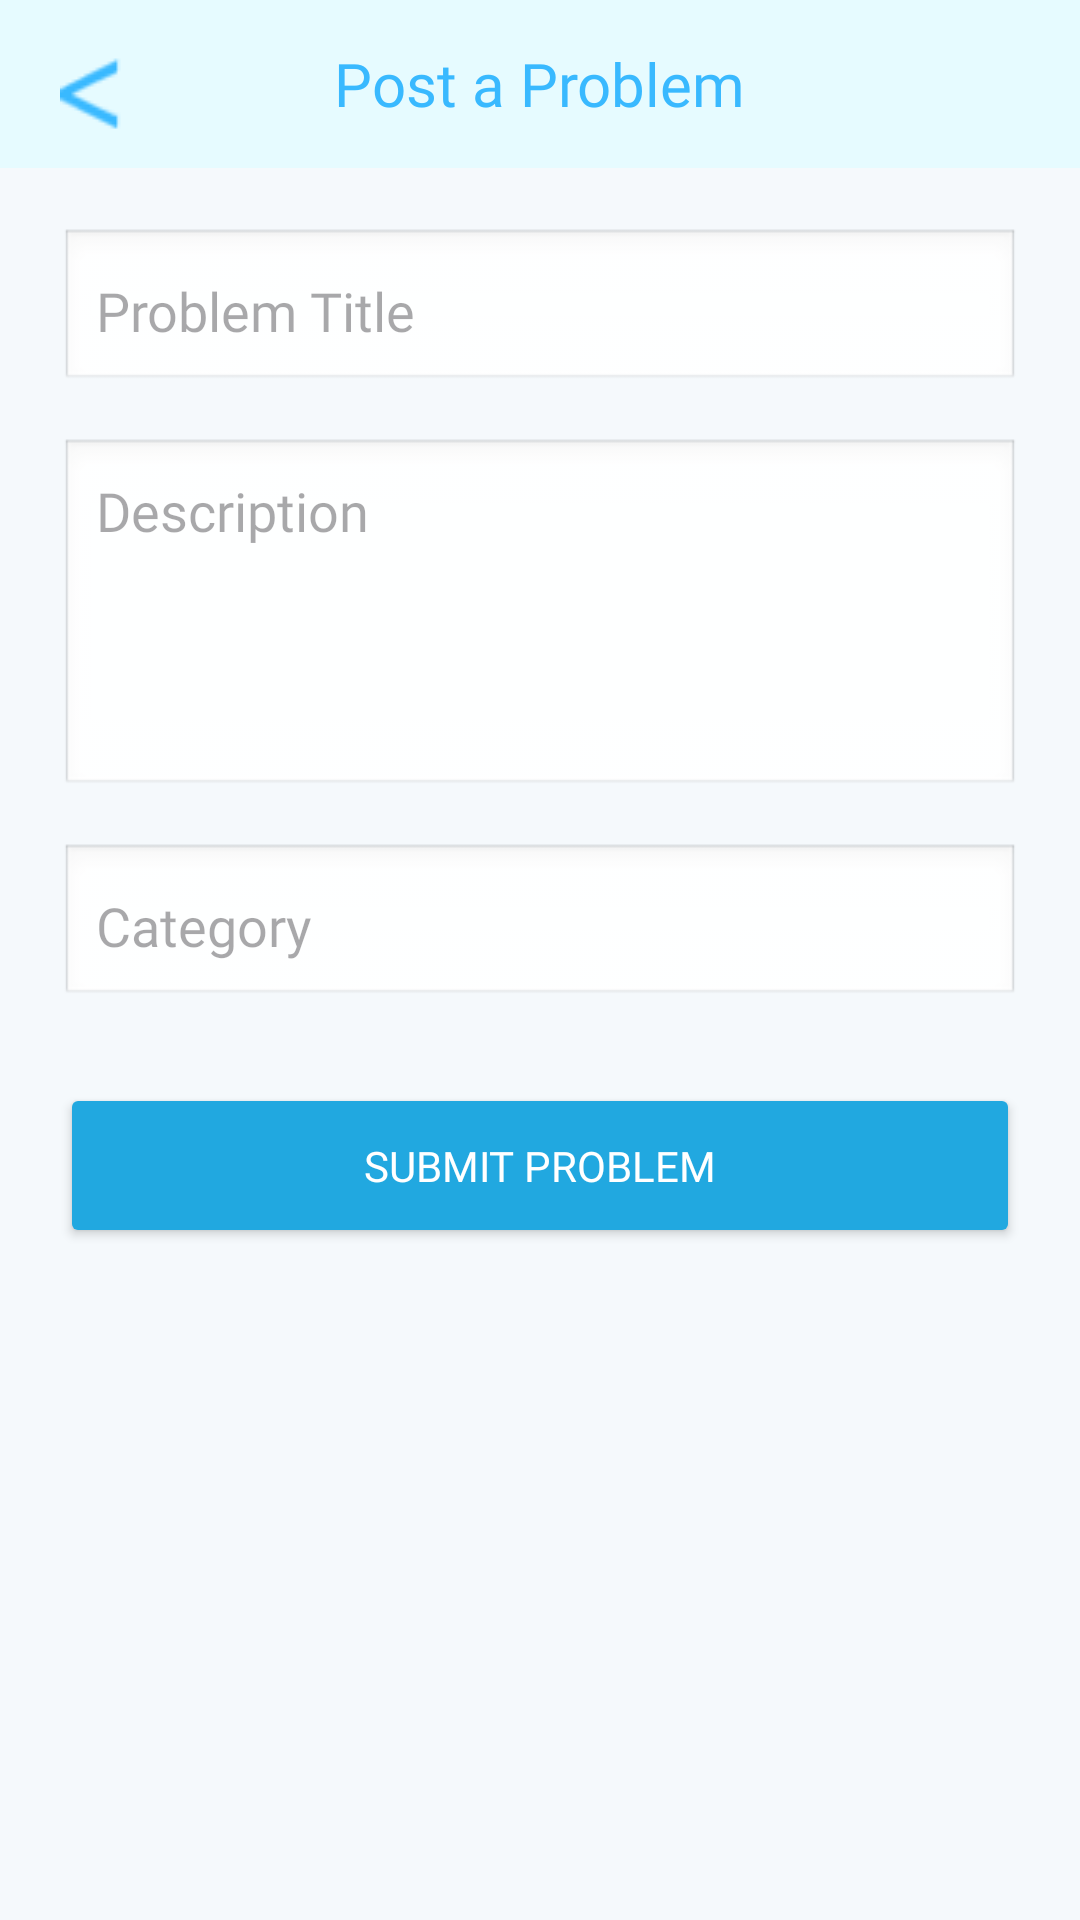

Icons on this 1080 × 1920 Android screen, each with the point to tap as point (x, y):
back: point (89, 94)
